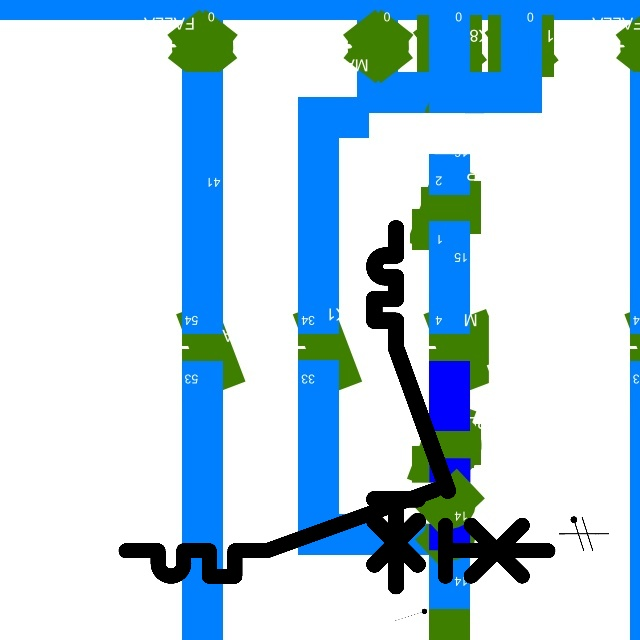interruptor_termomagnetico: (115, 479, 559, 587), (365, 219, 457, 595)
